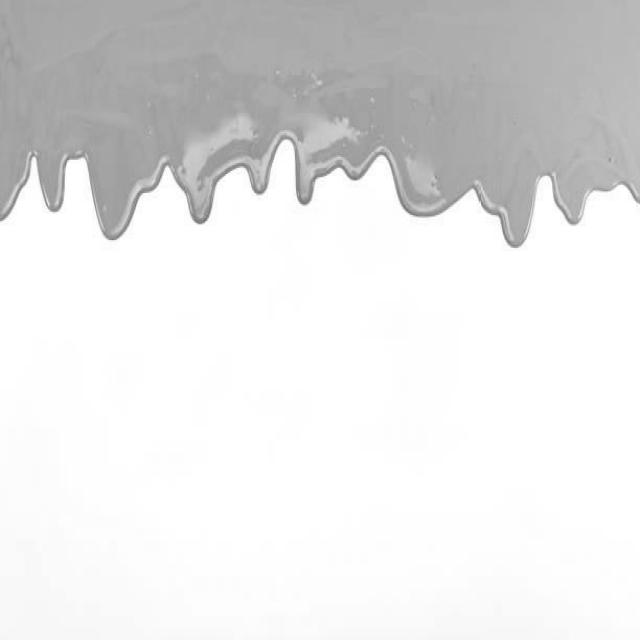paint drips: (1, 124, 640, 266)
